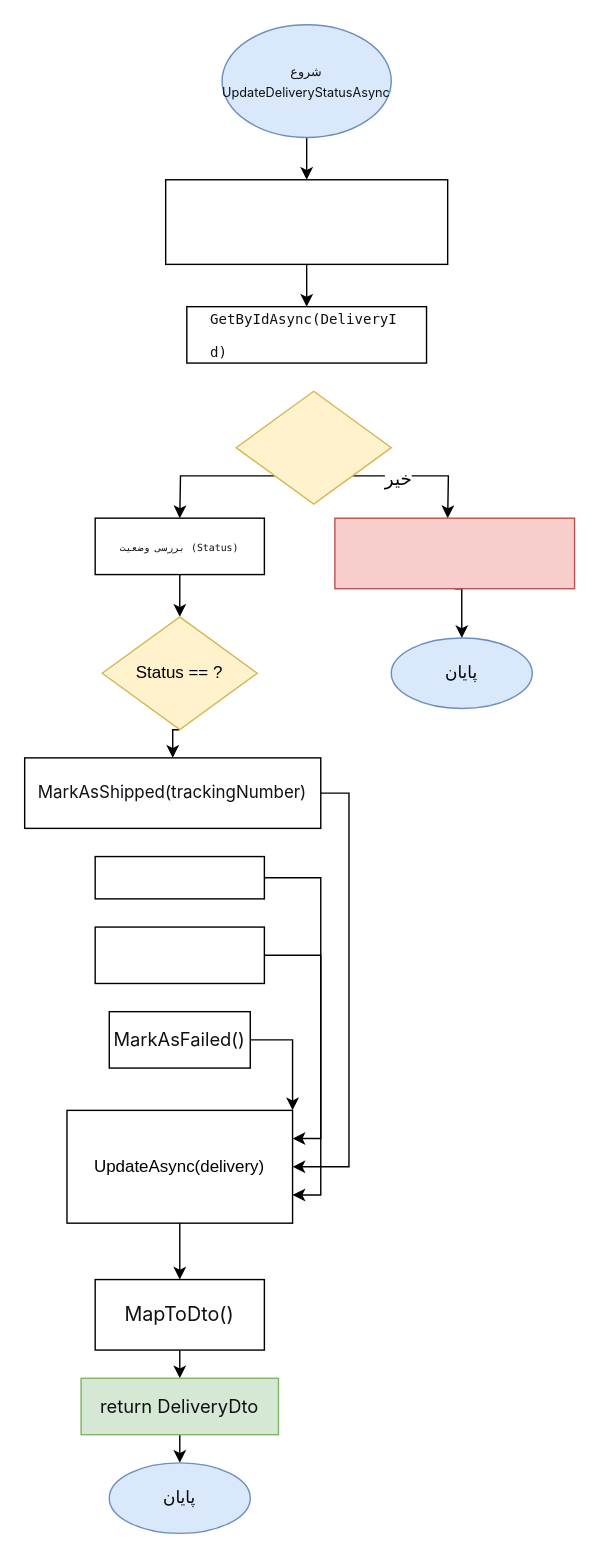
The diagram is 599 pixels wide and 1558 high, and some of its shapes have lost their labels. The shapes that lost their labels are listed below. From the top down, each one's box as (x1, y1, x2, y2) in pixels, then its label:
(164, 178, 448, 264): دریافت UpdateDeliveryStatusDto (DeliveryId, Status, TrackingNumber)
(235, 390, 391, 504): وجود د ارد ؟
(333, 517, 575, 589): throw Exception "Delivery not found"
(94, 855, 264, 899): MarkAsDelivered()
(94, 926, 264, 983): MarkAsProcessing()
